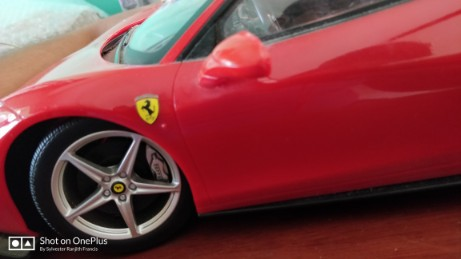unaligned_wheel: (23, 116, 193, 255)
